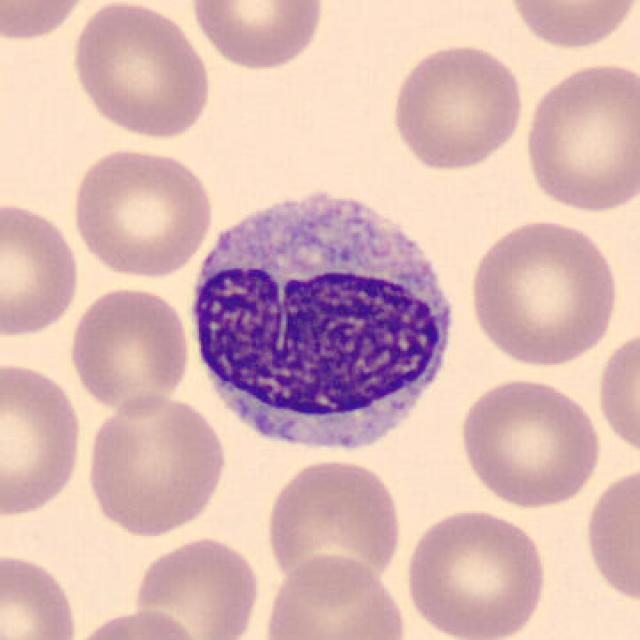Monocyte: (182, 173, 469, 471)
RBC: (464, 215, 622, 369), (82, 392, 229, 540), (68, 0, 215, 141), (262, 455, 406, 598), (402, 504, 551, 640), (454, 374, 604, 509), (68, 144, 215, 280), (386, 39, 528, 174), (519, 58, 638, 215), (66, 282, 192, 416), (128, 532, 263, 640), (0, 358, 85, 520), (259, 550, 409, 640), (0, 196, 84, 340), (187, 0, 329, 72), (582, 462, 638, 608), (0, 548, 82, 640), (503, 0, 638, 51), (594, 324, 638, 464), (64, 606, 208, 640), (0, 0, 96, 44)
